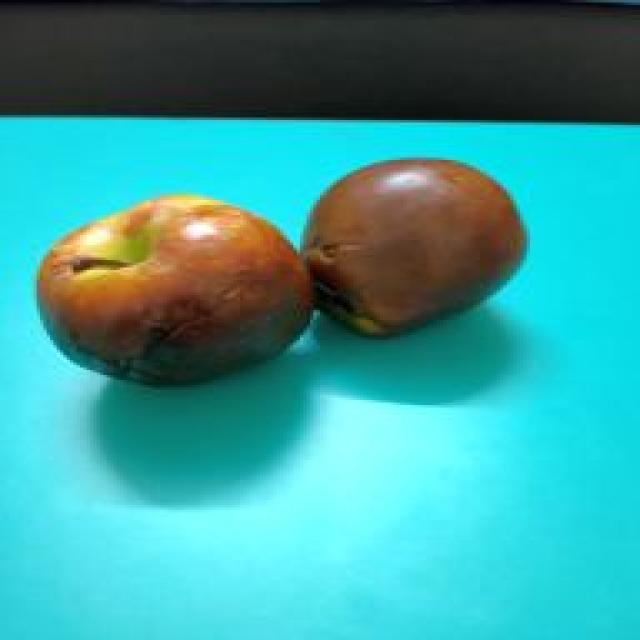Bad_Apple: (38, 161, 525, 383)
